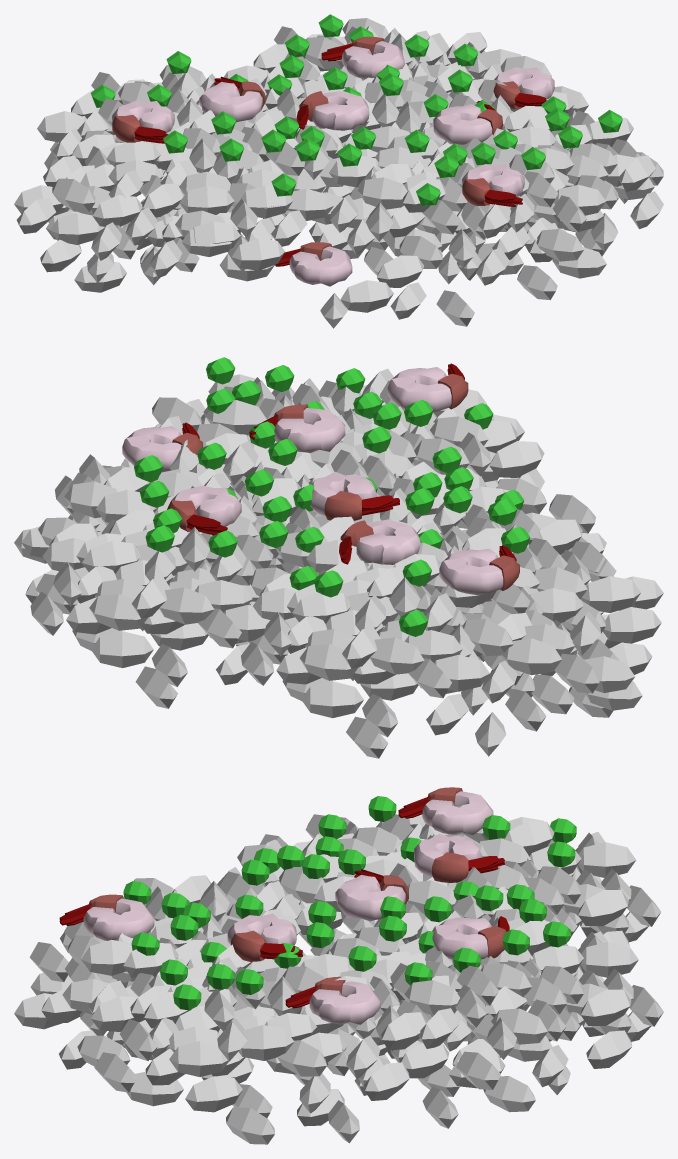
File: paella_mix.fbx
The picture shows the model from 3 angles, top to bottom: view 1: azimuth 30°, elevation 25°; view 2: azimuth 150°, elevation 25°; view 3: azimuth 270°, elevation 25°; orthographic projection. The views are drawn at different scales.
Visible parts, largest first — view 1: body (×7), shell (×3), prawn_model:body, rice31 (×2), rice110, rice_pile:rice124, rice88 (×2), rice_pile:rice193, rice44, rice_pile:rice125, rice97, rice_pile:rice27 (+80 smaller); view 2: body (×6), prawn_model:body, shell (×3), rice33 (×2), rice176 (×2), rice122, rice_pile:rice122, rice_pile:rice84, rice_pile:rice72, rice_pile:rice139, rice116, rice46 (+101 smaller); view 3: body (×6), rice122 (×2), rice118 (×2), rice176 (×2), rice121 (×2), rice200 (×2), rice31 (×2), rice6 (×2), rice106 (×2), rice97 (×2), rice49 (×2), rice233 (×2) (+79 smaller).
Boxes of the visible parts, left/top/right/bottom form: body (×7): left=112, top=41, right=554, bottom=286; shell (×3): left=112, top=81, right=521, bottom=205; prawn_model:body: left=199, top=81, right=262, bottom=122; rice31 (×2): left=446, top=32, right=558, bottom=207; rice110: left=340, top=280, right=393, bottom=312; rice_pile:rice124: left=231, top=238, right=285, bottom=270; rice88 (×2): left=478, top=56, right=551, bottom=238; rice_pile:rice193: left=50, top=212, right=104, bottom=244; rice44: left=357, top=177, right=407, bottom=209; rice_pile:rice125: left=179, top=185, right=234, bottom=214; rice97: left=536, top=229, right=583, bottom=261; rice_pile:rice27: left=92, top=195, right=142, bottom=226; body (×6): left=122, top=367, right=503, bottom=595; prawn_model:body: left=356, top=520, right=420, bottom=564; shell (×3): left=324, top=374, right=519, bottom=590; rice33 (×2): left=179, top=400, right=266, bottom=571; rice176 (×2): left=131, top=397, right=201, bottom=618; rice122: left=91, top=631, right=153, bottom=668; rice_pile:rice122: left=301, top=681, right=363, bottom=718; rice_pile:rice84: left=602, top=607, right=661, bottom=643; rice_pile:rice72: left=581, top=576, right=640, bottom=612; rice_pile:rice139: left=501, top=638, right=561, bottom=675; rice116: left=489, top=441, right=544, bottom=477; rice46: left=159, top=587, right=214, bottom=624; body (×6): left=83, top=791, right=493, bottom=1024; rice122 (×2): left=185, top=985, right=663, bottom=1112; rice118 (×2): left=120, top=989, right=631, bottom=1060; rice176 (×2): left=217, top=942, right=638, bottom=1061; rice121 (×2): left=94, top=1030, right=632, bottom=1092; rice200 (×2): left=29, top=942, right=409, bottom=1100; rice31 (×2): left=81, top=939, right=486, bottom=1027; rice6 (×2): left=123, top=943, right=498, bottom=1005; rice106 (×2): left=59, top=1030, right=535, bottom=1112; rice97 (×2): left=41, top=987, right=500, bottom=1089; rice49 (×2): left=91, top=996, right=566, bottom=1041; rice233 (×2): left=77, top=1035, right=568, bottom=1087.
Bounding box in the file's own units: 52.12 × 13.6 × 48.78.
